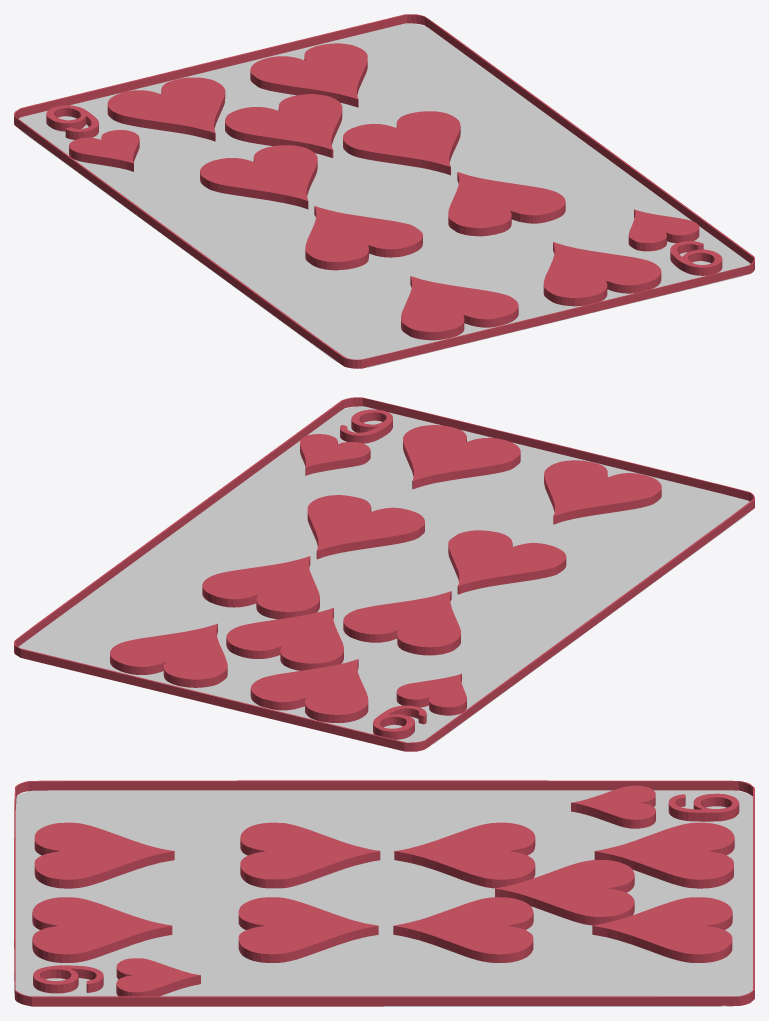
Rendered from 9_hearts.glb.
The picture shows the model from 3 angles, top to bottom: view 1: azimuth 30°, elevation 25°; view 2: azimuth 150°, elevation 25°; view 3: azimuth 270°, elevation 25°; orthographic projection. The views are drawn at different scales.
Parts seen in each view (by area): view 1: Mesh_Mesh_head_geo.001_lambert2SG.001; view 2: Mesh_Mesh_head_geo.001_lambert2SG.001; view 3: Mesh_Mesh_head_geo.001_lambert2SG.001.
Part boxes in pixels (box(x1,y1,x2,y2)): Mesh_Mesh_head_geo.001_lambert2SG.001: box(14, 14, 754, 368); Mesh_Mesh_head_geo.001_lambert2SG.001: box(14, 397, 754, 751); Mesh_Mesh_head_geo.001_lambert2SG.001: box(14, 780, 754, 1006).
Bounding box in the file's own units: 2.25 × 0.045 × 3.25.
